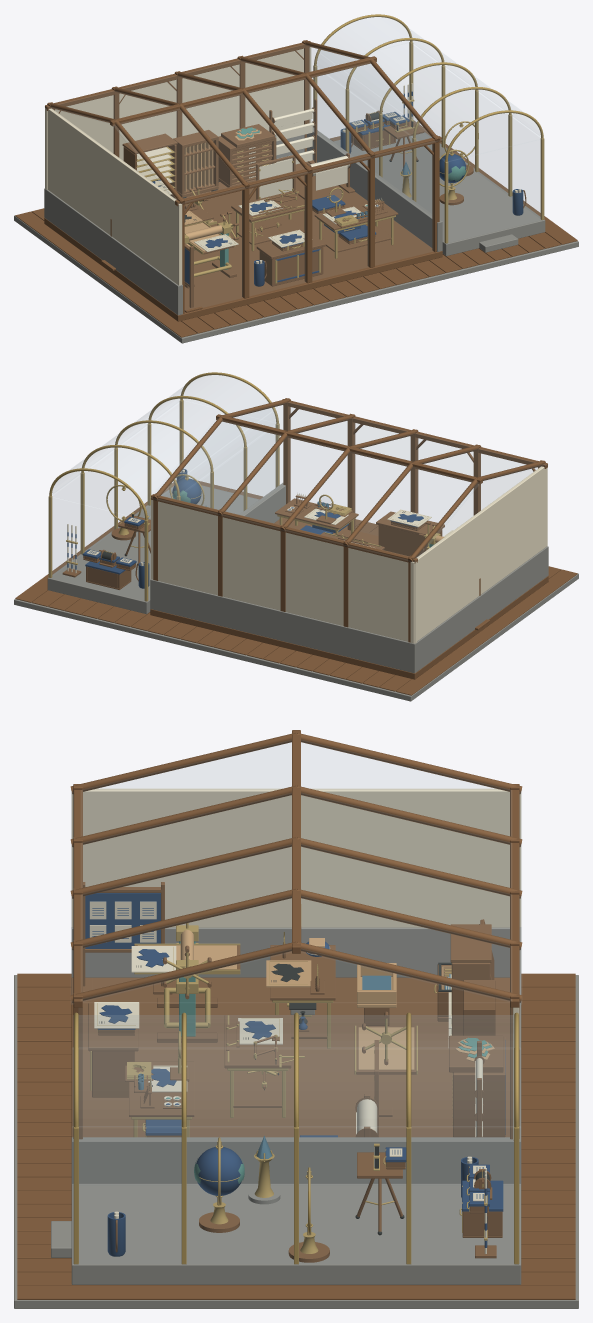
Rendered from fantasy-cartographers-map-printing-guild-e4cbf4b7-starter-scene__32277.glb.
3 views of the same model, one above another, from view 1: azimuth 30°, elevation 25°; view 2: azimuth 150°, elevation 25°; view 3: azimuth 270°, elevation 25° (orthographic). The views are drawn at different scales.
Visible parts, largest first — view 1: 001-roofed-cartographers-guild/0, 001-roofed-cartographers-guild/1, 002-glazed-survey-gallery/1, 001-roofed-cartographers-guild/2, 000-cartography-hall-floor-base/0, 002-glazed-survey-gallery/2, 001-roofed-cartographers-guild/3, 002-glazed-survey-gallery/0, 000-cartography-hall-floor-base/1, 009-atlas-flat-file-cabinet/1, 050-expedition-dispatch-counter/1, 008-plate-storage-cabinet/1 (+17 smaller); view 2: 001-roofed-cartographers-guild/1, 001-roofed-cartographers-guild/2, 002-glazed-survey-gallery/1, 001-roofed-cartographers-guild/0, 001-roofed-cartographers-guild/3, 000-cartography-hall-floor-base/0, 002-glazed-survey-gallery/0, 002-glazed-survey-gallery/2, 000-cartography-hall-floor-base/1, 050-expedition-dispatch-counter/1, 044-expedition-instrument-chest/1, 018-map-colouring-desk/1 (+1 smaller); view 3: 002-glazed-survey-gallery/1, 001-roofed-cartographers-guild/0, 001-roofed-cartographers-guild/1, 000-cartography-hall-floor-base/0, 002-glazed-survey-gallery/2, 001-roofed-cartographers-guild/3, 001-roofed-cartographers-guild/2, 000-cartography-hall-floor-base/1, 002-glazed-survey-gallery/0, 011-adjustable-drafting-table/1, 009-atlas-flat-file-cabinet/1, 050-expedition-dispatch-counter/1 (+21 smaller).
Part boxes in pixels (box(x1,y1,x2,y2)): 001-roofed-cartographers-guild/0: box(44, 40, 442, 321); 001-roofed-cartographers-guild/1: box(45, 47, 311, 285); 002-glazed-survey-gallery/1: box(317, 17, 542, 242); 001-roofed-cartographers-guild/2: box(51, 47, 432, 216); 000-cartography-hall-floor-base/0: box(15, 121, 577, 337); 002-glazed-survey-gallery/2: box(333, 132, 545, 256); 001-roofed-cartographers-guild/3: box(44, 127, 442, 315); 002-glazed-survey-gallery/0: box(313, 14, 544, 243); 000-cartography-hall-floor-base/1: box(14, 211, 578, 343); 009-atlas-flat-file-cabinet/1: box(218, 136, 276, 187); 050-expedition-dispatch-counter/1: box(256, 234, 325, 286); 008-plate-storage-cabinet/1: box(173, 130, 218, 197); 001-roofed-cartographers-guild/1: box(151, 466, 547, 643); 001-roofed-cartographers-guild/2: box(161, 405, 541, 557); 002-glazed-survey-gallery/1: box(52, 375, 275, 600); 001-roofed-cartographers-guild/0: box(150, 398, 548, 679); 001-roofed-cartographers-guild/3: box(150, 483, 548, 673); 000-cartography-hall-floor-base/0: box(15, 480, 577, 695); 002-glazed-survey-gallery/0: box(48, 372, 279, 601); 002-glazed-survey-gallery/2: box(47, 485, 259, 614); 000-cartography-hall-floor-base/1: box(14, 569, 578, 701); 050-expedition-dispatch-counter/1: box(376, 511, 444, 557); 044-expedition-instrument-chest/1: box(86, 566, 131, 589); 018-map-colouring-desk/1: box(275, 498, 358, 534); 002-glazed-survey-gallery/1: box(72, 1015, 520, 1185); 001-roofed-cartographers-guild/0: box(70, 730, 522, 1139); 001-roofed-cartographers-guild/1: box(71, 788, 521, 1140); 000-cartography-hall-floor-base/0: box(17, 973, 575, 1299); 002-glazed-survey-gallery/2: box(51, 1183, 521, 1284); 001-roofed-cartographers-guild/3: box(71, 927, 521, 1183); 001-roofed-cartographers-guild/2: box(83, 742, 509, 1001); 000-cartography-hall-floor-base/1: box(14, 975, 578, 1308); 002-glazed-survey-gallery/0: box(73, 1012, 519, 1264); 011-adjustable-drafting-table/1: box(224, 1015, 291, 1107); 009-atlas-flat-file-cabinet/1: box(453, 1037, 505, 1137); 050-expedition-dispatch-counter/1: box(88, 1003, 138, 1097).
Bounding box in the file's own units: 12 × 4.56 × 8.8.
